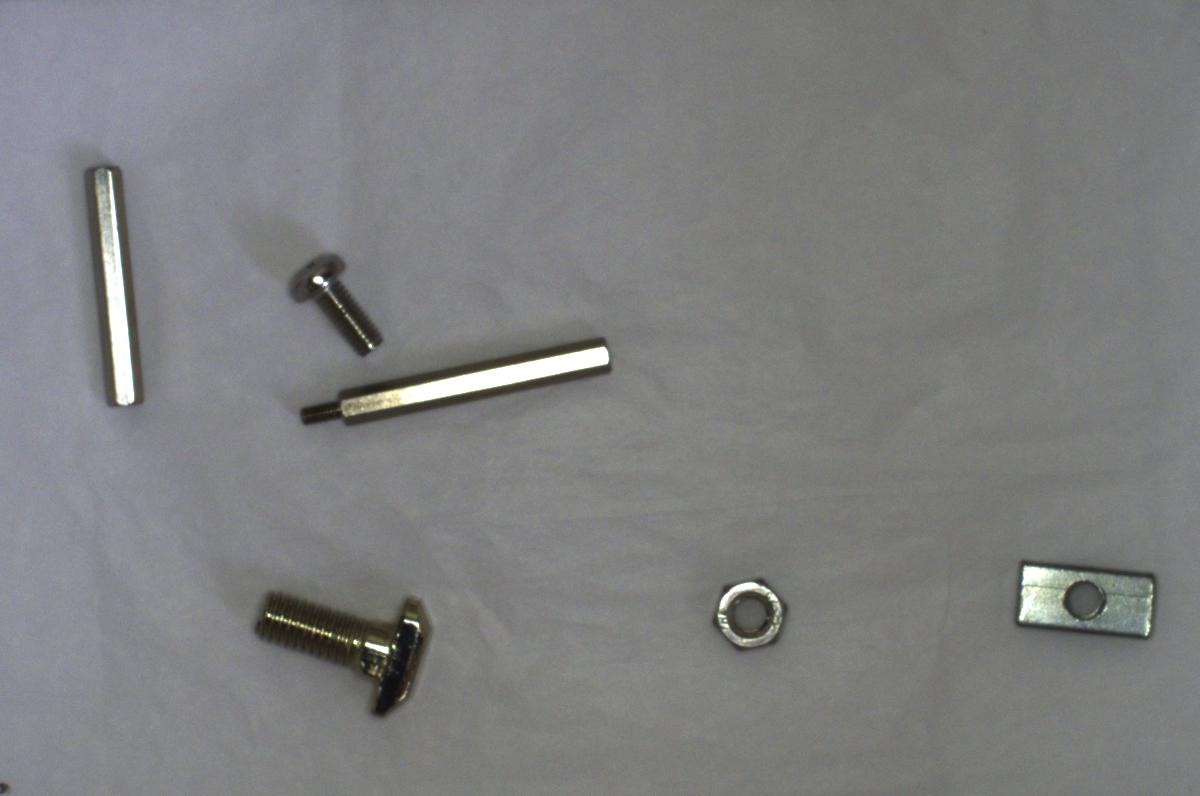Double hexagonal column: (80, 159, 150, 415)
Hexagon nut: (704, 569, 791, 660)
Hexagonal steel column: (292, 326, 624, 425)
Rectangular nut: (1011, 555, 1161, 642)
Round head screw: (282, 250, 391, 361)
T-shaped screw: (246, 580, 444, 725)
